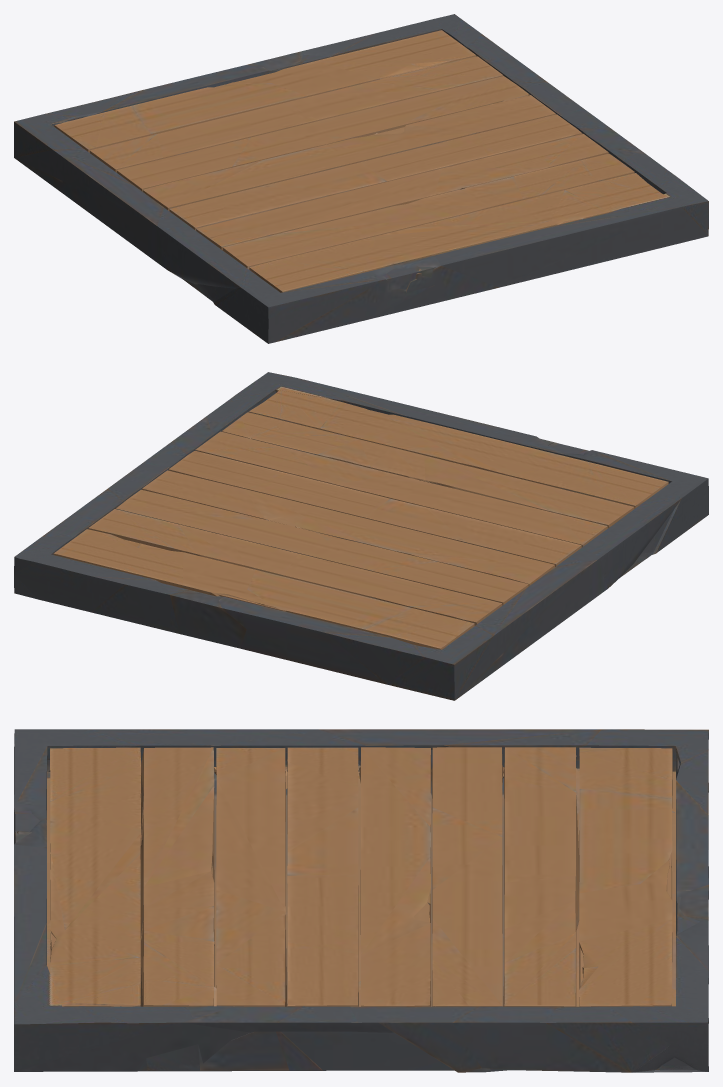
The model's file is timberDeck.glb.
3 renders of one model, top to bottom at view 1: azimuth 30°, elevation 25°; view 2: azimuth 150°, elevation 25°; view 3: azimuth 270°, elevation 25°, orthographic. The views are drawn at different scales.
Visible parts, largest first — view 1: Mesh_0; view 2: Mesh_0; view 3: Mesh_0.
Part boxes in pixels (left/top/right/bottom): Mesh_0: left=14, top=14, right=708, bottom=343; Mesh_0: left=14, top=372, right=708, bottom=700; Mesh_0: left=14, top=729, right=708, bottom=1072.
Size of the model in its own units: 1 by 0.08 by 1.
Materials: 1 (1 with a texture image).
